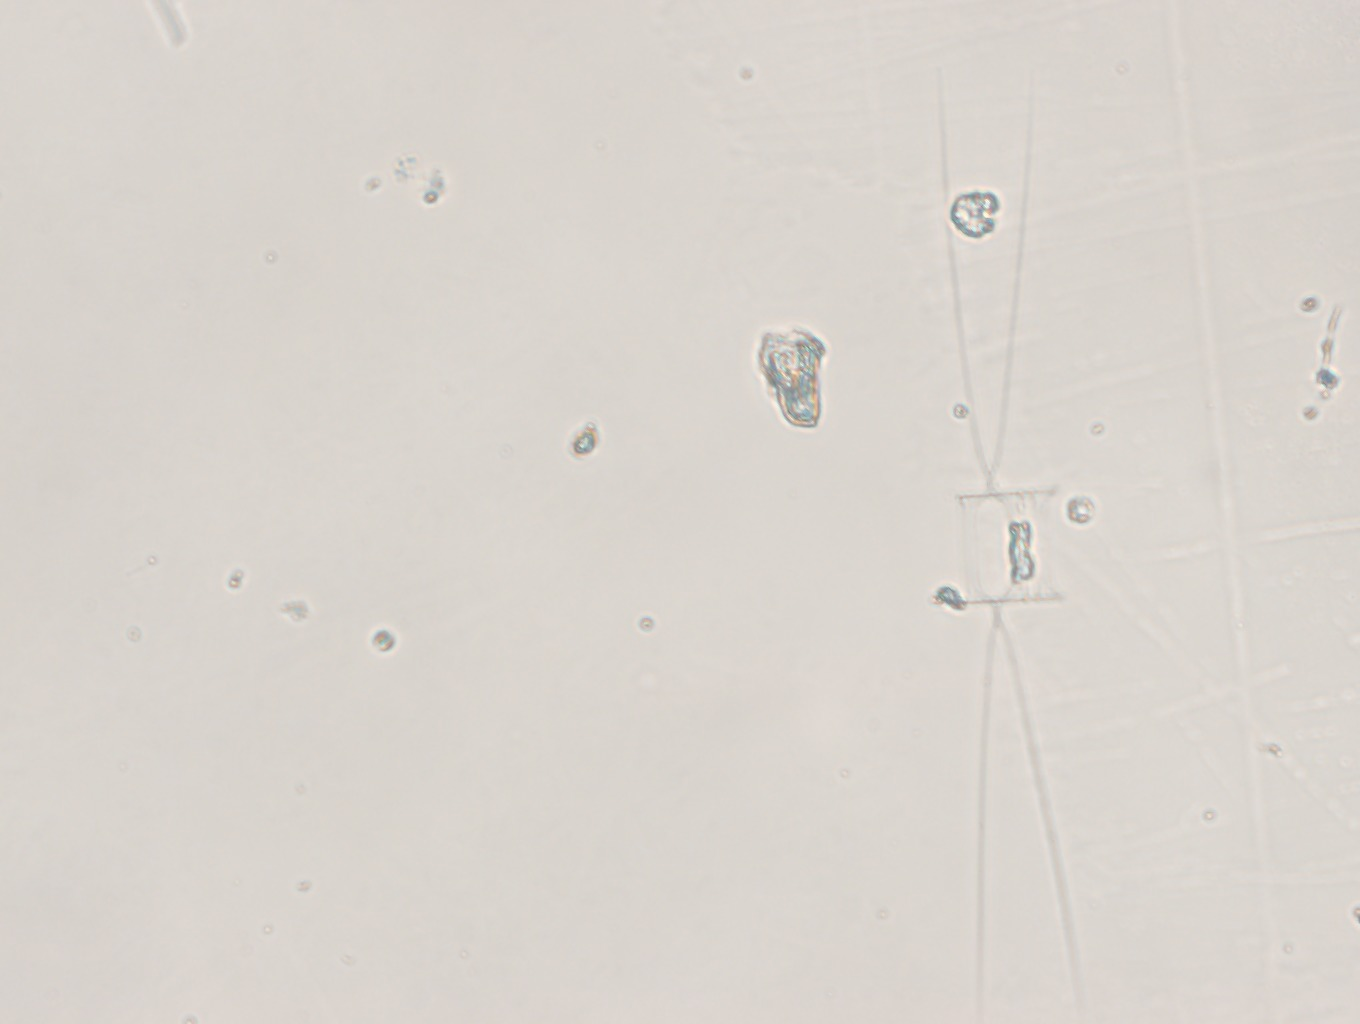chaetoceros: (918, 57, 1098, 1024)
